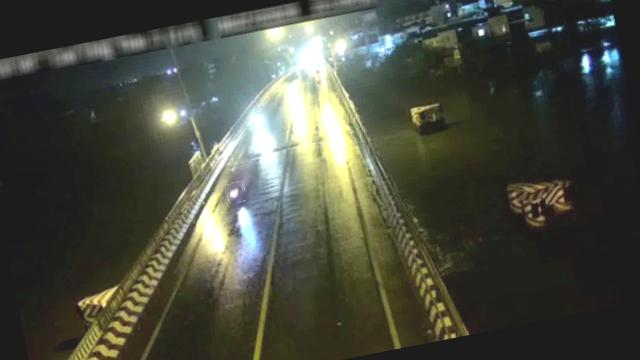Bike: (226, 180, 248, 204)
